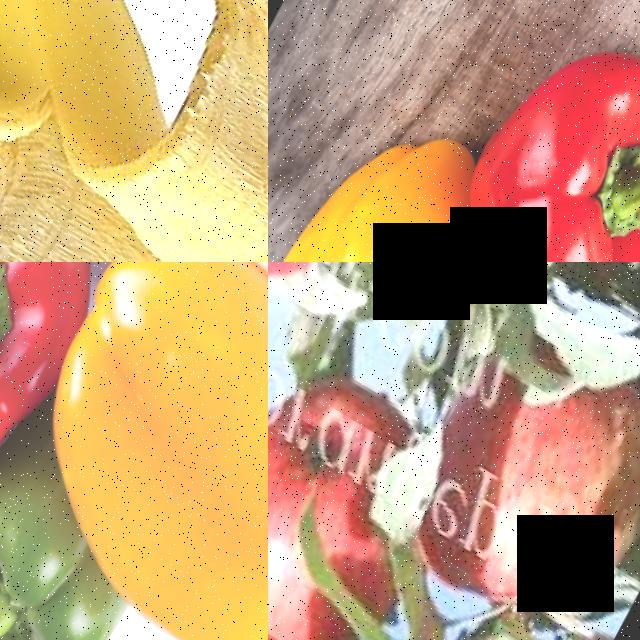apple: (378, 284, 640, 640), (268, 328, 452, 640)
banana: (0, 0, 268, 262)
bell pepper: (26, 262, 268, 640), (447, 0, 640, 262), (0, 262, 139, 517), (0, 475, 136, 640), (268, 177, 503, 262)
